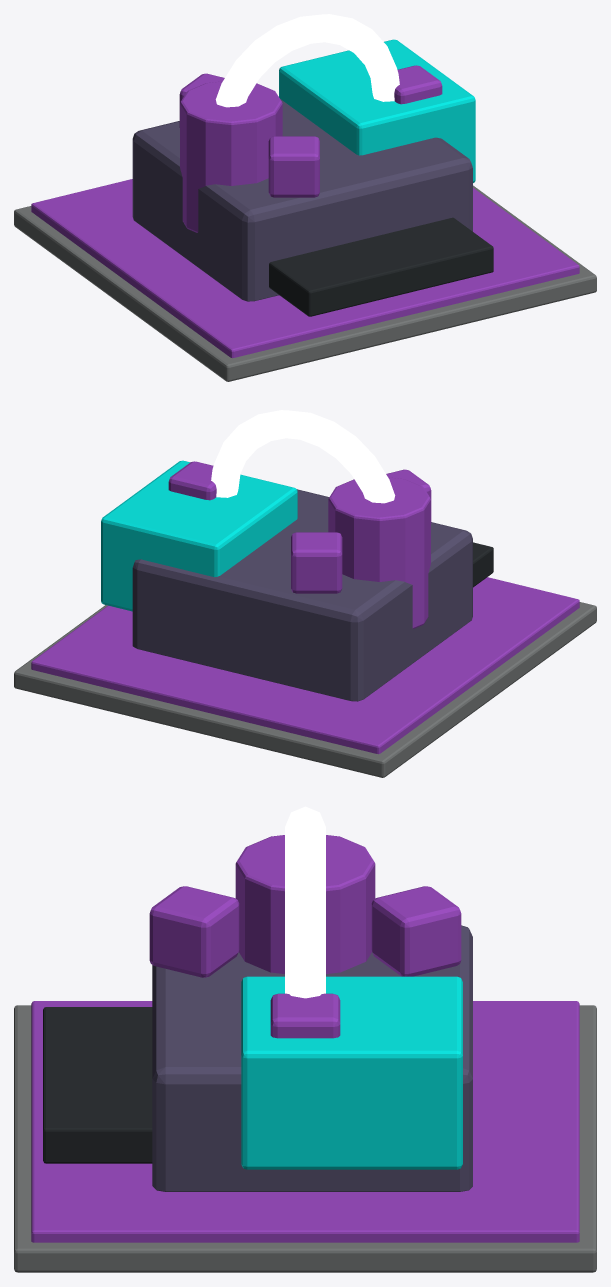
The model's file is SM_Chronolegion_CH_Refinery.fbx.
3 views of the same model, one above another, from view 1: azimuth 30°, elevation 25°; view 2: azimuth 150°, elevation 25°; view 3: azimuth 270°, elevation 25° (orthographic). The views are drawn at different scales.
Parts seen in each view (by area): view 1: SM_Chronolegion_CH_Refinery_MainMass, SM_Chronolegion_CH_Refinery_FoundationTrim, SM_Chronolegion_CH_Refinery, SM_Chronolegion_CH_Refinery_Conveyor, SM_Chronolegion_CH_Refinery_OreHopper, SM_Chronolegion_CH_Refinery_Processor, SM_Chronolegion_CH_Refinery_ChronoRing, SM_Chronolegion_CH_Refinery_FloatingNode_2, SM_Chronolegion_CH_Refinery_FloatingNode_0; view 2: SM_Chronolegion_CH_Refinery_MainMass, SM_Chronolegion_CH_Refinery_FoundationTrim, SM_Chronolegion_CH_Refinery_OreHopper, SM_Chronolegion_CH_Refinery, SM_Chronolegion_CH_Refinery_Processor, SM_Chronolegion_CH_Refinery_ChronoRing, SM_Chronolegion_CH_Refinery_FloatingNode_1, SM_Chronolegion_CH_Refinery_FloatingNode_0, SM_Chronolegion_CH_Refinery_Conveyor; view 3: SM_Chronolegion_CH_Refinery_FoundationTrim, SM_Chronolegion_CH_Refinery_OreHopper, SM_Chronolegion_CH_Refinery_MainMass, SM_Chronolegion_CH_Refinery, SM_Chronolegion_CH_Refinery_Conveyor, SM_Chronolegion_CH_Refinery_Processor, SM_Chronolegion_CH_Refinery_ChronoRing, SM_Chronolegion_CH_Refinery_FloatingNode_2, SM_Chronolegion_CH_Refinery_FloatingNode_1, SM_Chronolegion_CH_Refinery_FloatingNode_0.
Part boxes in pixels (x1=…): SM_Chronolegion_CH_Refinery_MainMass: x1=132, y1=99, x2=472, y2=301; SM_Chronolegion_CH_Refinery_FoundationTrim: x1=31, y1=179, x2=579, y2=358; SM_Chronolegion_CH_Refinery: x1=14, y1=185, x2=596, y2=381; SM_Chronolegion_CH_Refinery_Conveyor: x1=269, y1=217, x2=493, y2=316; SM_Chronolegion_CH_Refinery_OreHopper: x1=279, y1=39, x2=475, y2=182; SM_Chronolegion_CH_Refinery_Processor: x1=180, y1=81, x2=282, y2=232; SM_Chronolegion_CH_Refinery_ChronoRing: x1=215, y1=14, x2=399, y2=107; SM_Chronolegion_CH_Refinery_FloatingNode_2: x1=268, y1=136, x2=319, y2=197; SM_Chronolegion_CH_Refinery_FloatingNode_0: x1=394, y1=65, x2=442, y2=104; SM_Chronolegion_CH_Refinery_MainMass: x1=132, y1=489, x2=472, y2=701; SM_Chronolegion_CH_Refinery_FoundationTrim: x1=31, y1=577, x2=579, y2=754; SM_Chronolegion_CH_Refinery_OreHopper: x1=101, y1=460, x2=297, y2=611; SM_Chronolegion_CH_Refinery: x1=14, y1=602, x2=596, y2=777; SM_Chronolegion_CH_Refinery_Processor: x1=328, y1=477, x2=430, y2=628; SM_Chronolegion_CH_Refinery_ChronoRing: x1=211, y1=410, x2=395, y2=503; SM_Chronolegion_CH_Refinery_FloatingNode_1: x1=291, y1=532, x2=342, y2=593; SM_Chronolegion_CH_Refinery_FloatingNode_0: x1=168, y1=461, x2=216, y2=500; SM_Chronolegion_CH_Refinery_Conveyor: x1=473, y1=542, x2=493, y2=587; SM_Chronolegion_CH_Refinery_FoundationTrim: x1=31, y1=1001, x2=579, y2=1242; SM_Chronolegion_CH_Refinery_OreHopper: x1=241, y1=976, x2=462, y2=1169; SM_Chronolegion_CH_Refinery_MainMass: x1=152, y1=925, x2=472, y2=1191; SM_Chronolegion_CH_Refinery: x1=14, y1=1005, x2=596, y2=1272; SM_Chronolegion_CH_Refinery_Conveyor: x1=43, y1=1007, x2=152, y2=1163; SM_Chronolegion_CH_Refinery_Processor: x1=235, y1=835, x2=375, y2=973; SM_Chronolegion_CH_Refinery_ChronoRing: x1=285, y1=806, x2=325, y2=998; SM_Chronolegion_CH_Refinery_FloatingNode_2: x1=149, y1=886, x2=239, y2=977; SM_Chronolegion_CH_Refinery_FloatingNode_1: x1=371, y1=886, x2=461, y2=976; SM_Chronolegion_CH_Refinery_FloatingNode_0: x1=270, y1=993, x2=340, y2=1038.
Size of what is drawn, in the model's own units: 800 by 800 by 501.
